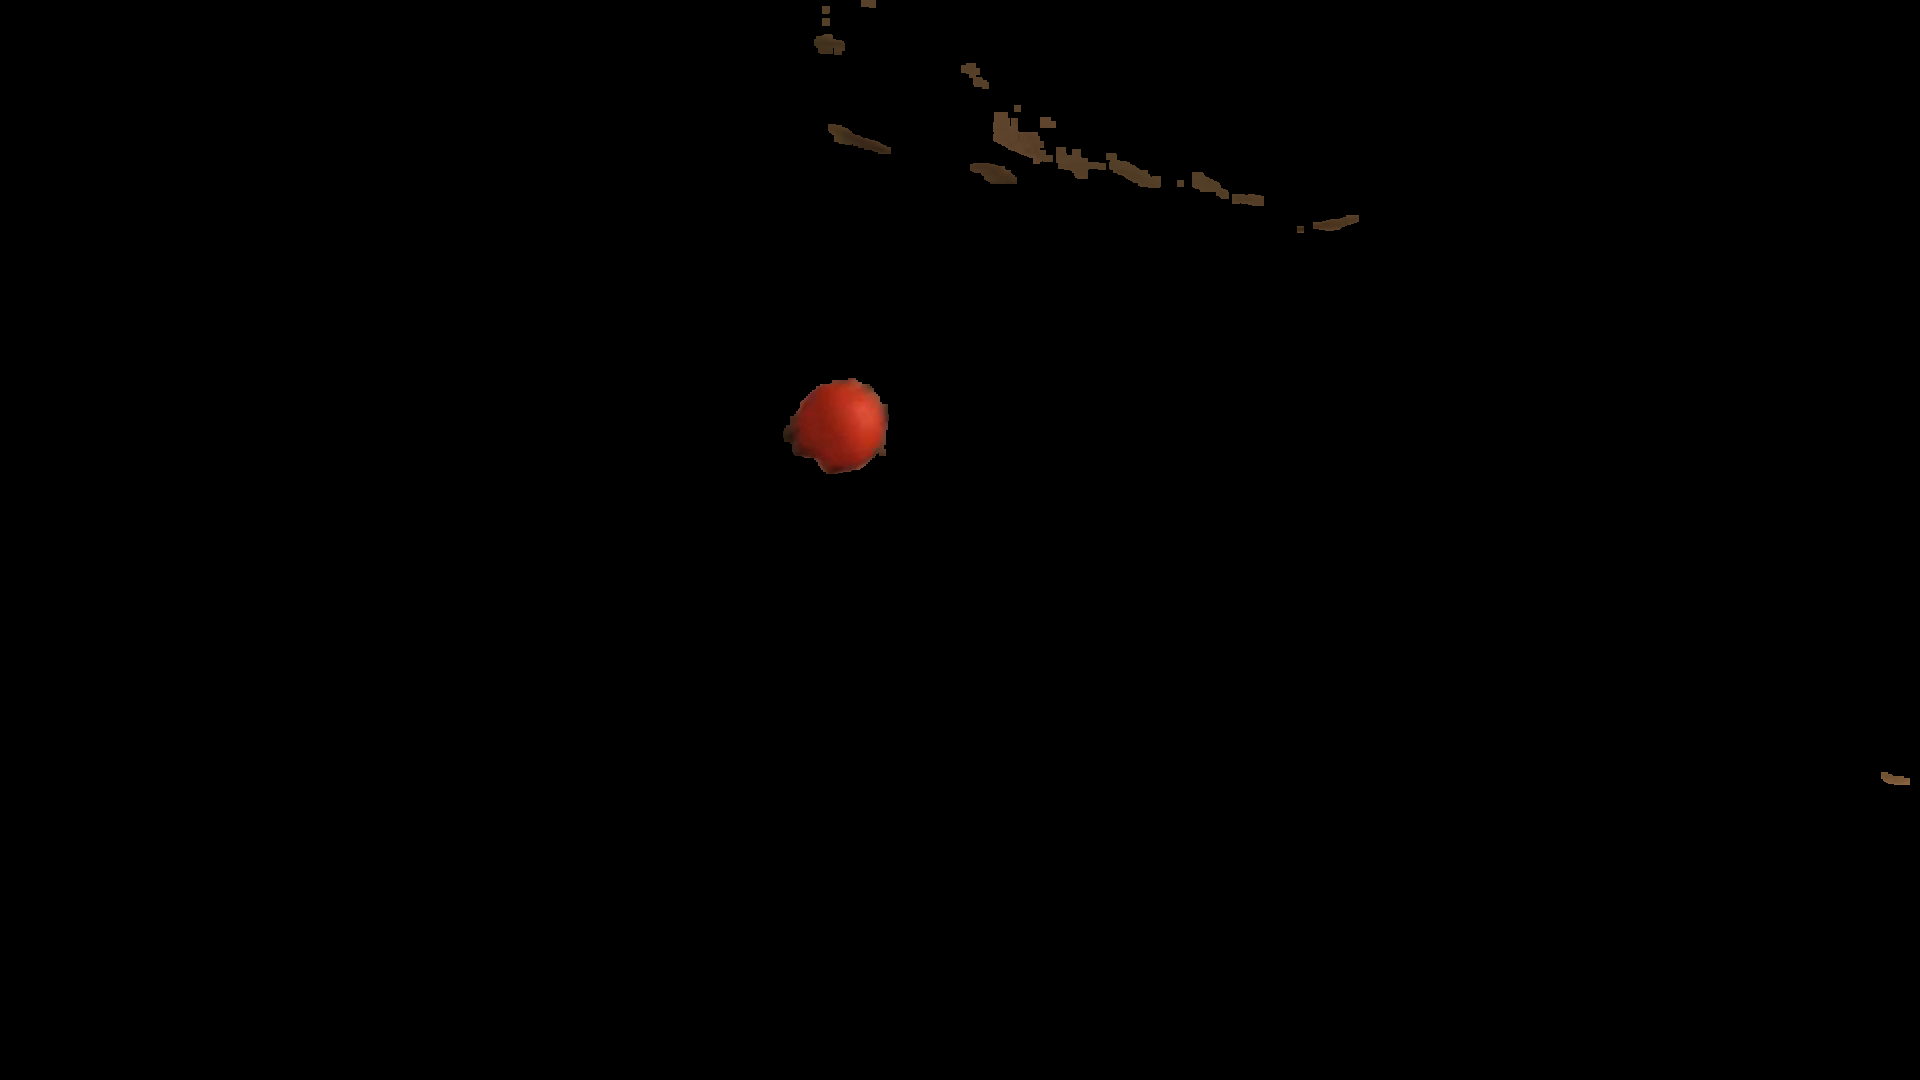Ball: (796, 378, 882, 468)
